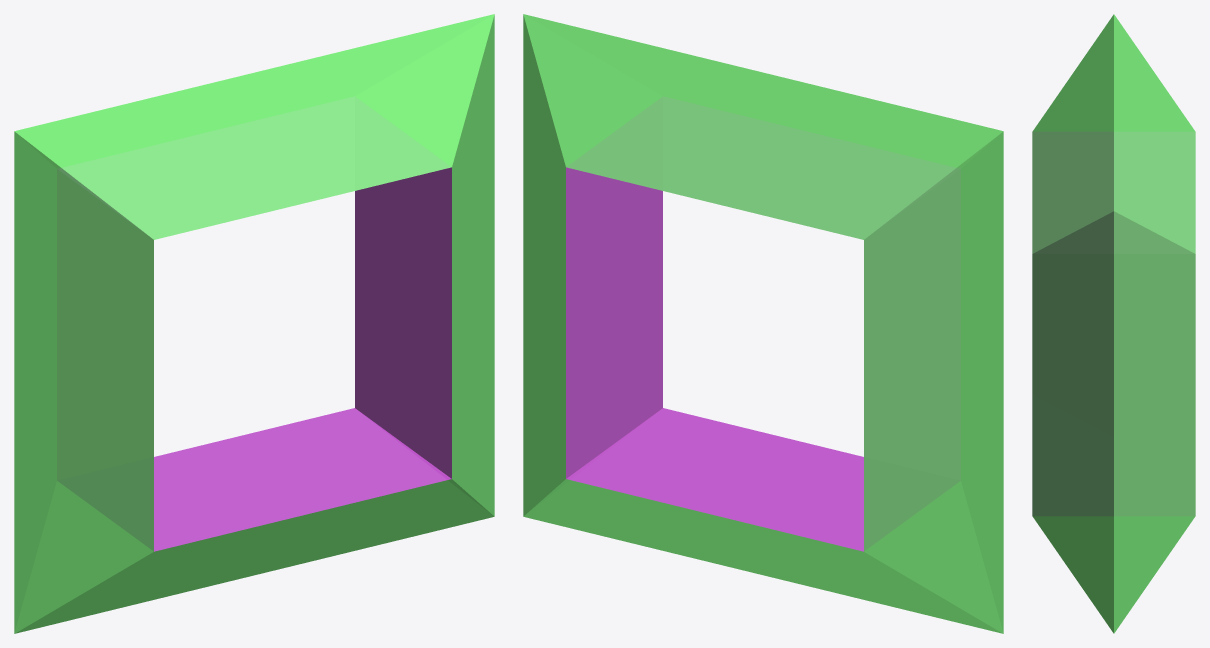
File: Regular4TetragonalToroid.obj
3 renders of one model, left to right at view 1: azimuth 30°, elevation 25°; view 2: azimuth 150°, elevation 25°; view 3: azimuth 270°, elevation 25°, orthographic. The views are drawn at different scales.
Size of the model in its own units: 2 by 2 by 0.7.
